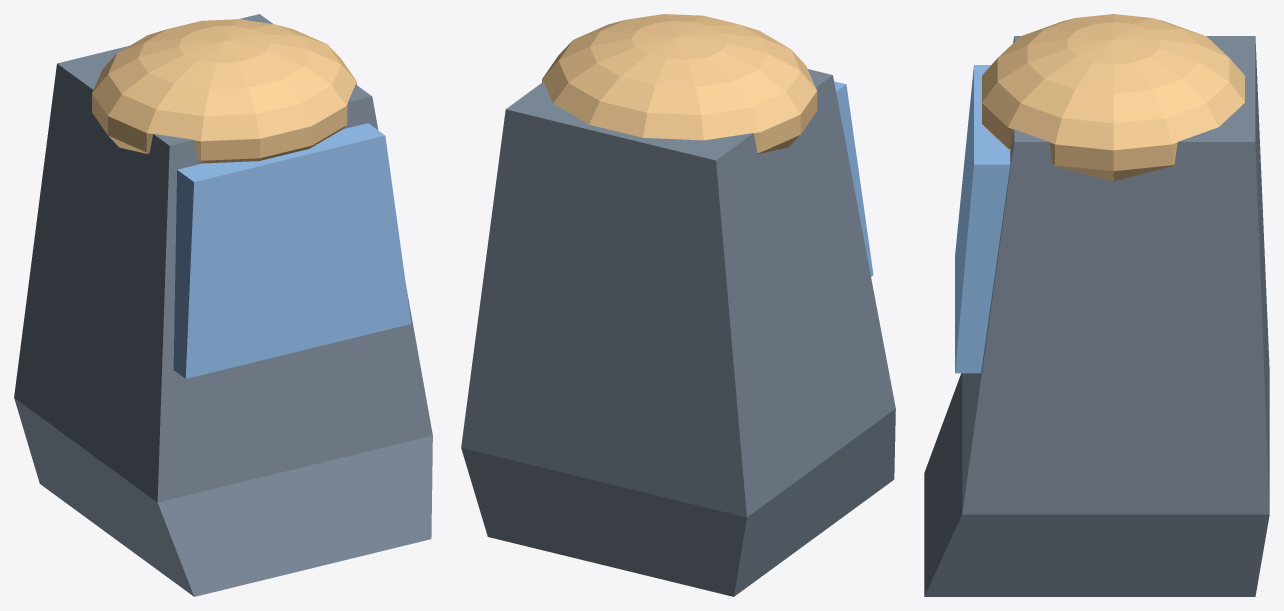
File: LeftLeg.glb
3 views of the same model, side by side, from view 1: azimuth 30°, elevation 25°; view 2: azimuth 150°, elevation 25°; view 3: azimuth 270°, elevation 25° (orthographic). The views are drawn at different scales.
Parts seen in each view (by area): view 1: boot, shinplate, knee; view 2: boot, knee, shinplate; view 3: boot, knee, shinplate.
Part boxes in pixels (x1,y1,x2,y2): boot: (14, 14, 432, 596); shinplate: (173, 123, 411, 378); knee: (92, 19, 356, 163); boot: (461, 69, 895, 596); knee: (542, 14, 817, 153); shinplate: (834, 81, 873, 276); boot: (924, 36, 1269, 596); knee: (982, 14, 1244, 181); shinplate: (955, 65, 1010, 373).
Size of the model in its own units: 1.44 by 2.31 by 1.46.
